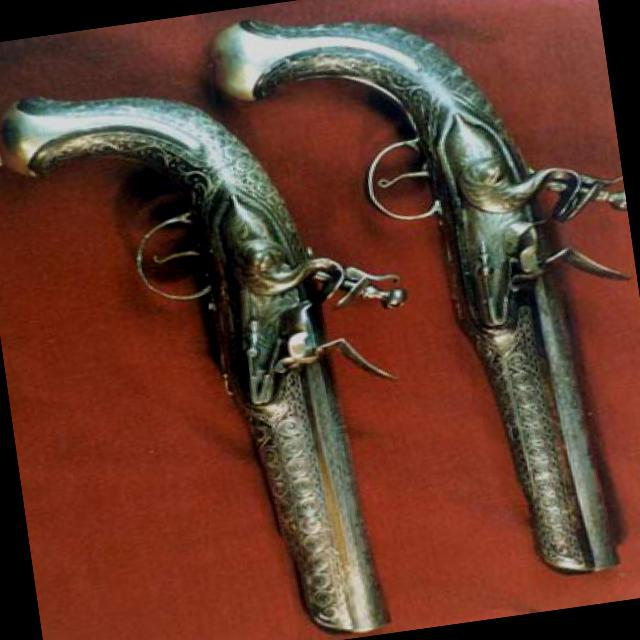handgun: (0, 39, 498, 639), (206, 0, 639, 615)
